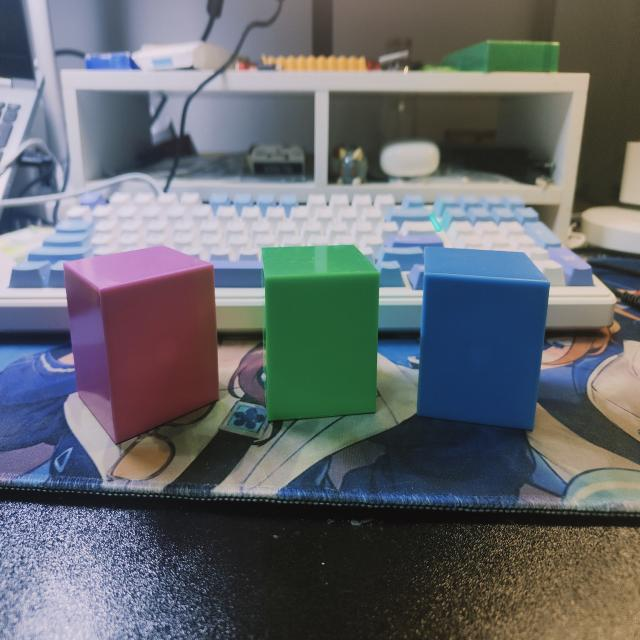blue: (419, 246, 551, 430)
green: (262, 245, 380, 423)
pink: (64, 247, 220, 448)
